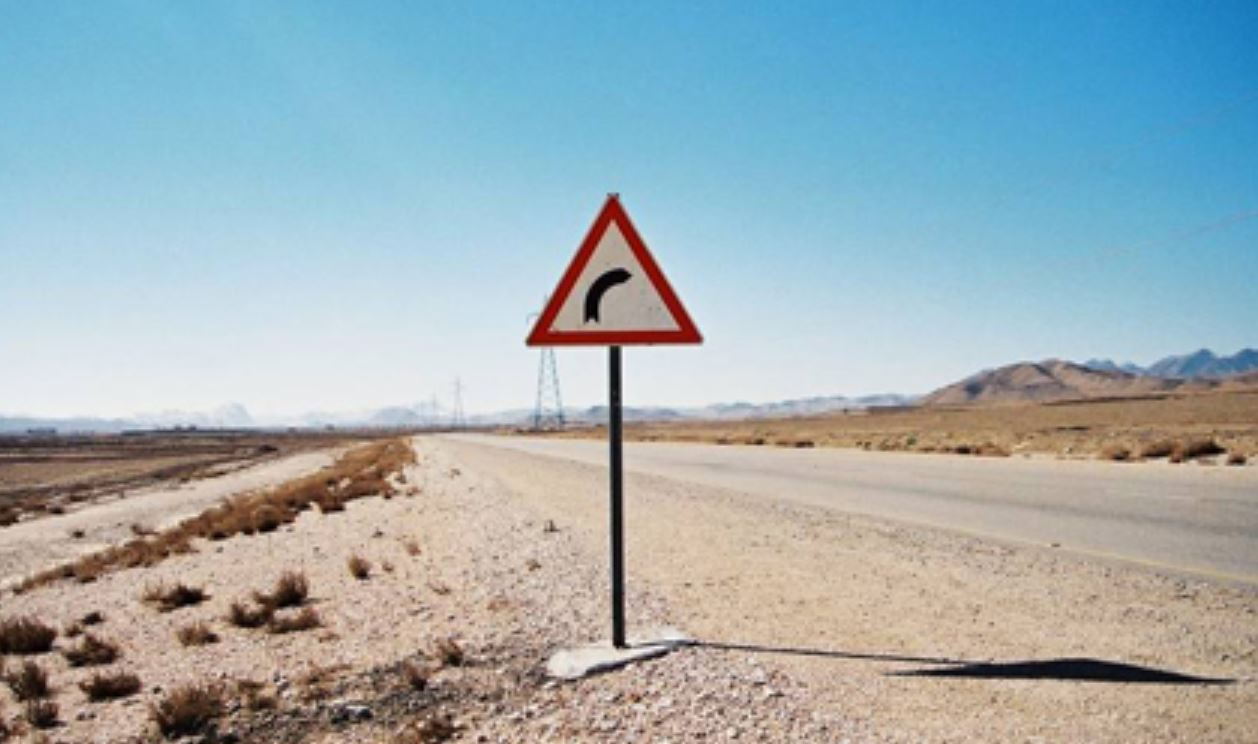Bend_to_right: (518, 189, 711, 359)
